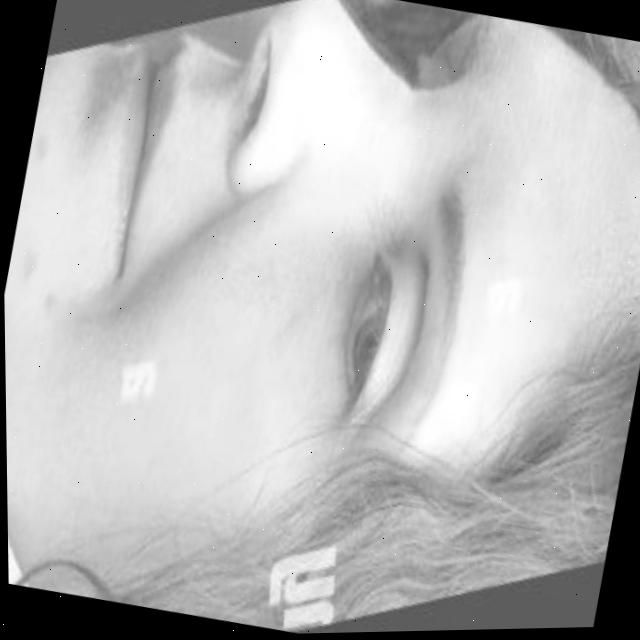Acne: (4, 263, 76, 336)
